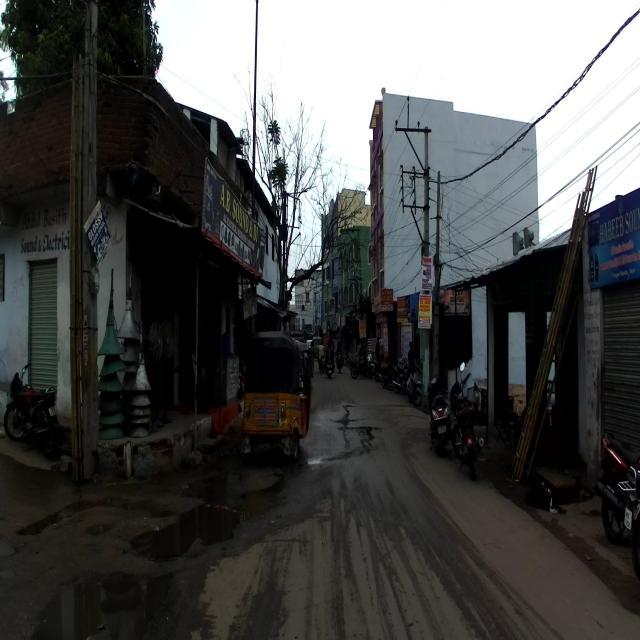autorickshaw: (239, 330, 312, 460)
motorcycle: (595, 426, 639, 547)
motorcycle_Hero: (4, 362, 62, 458)
motorcycle_HeroHonda: (441, 360, 487, 480)
scooter: (427, 371, 453, 454)
